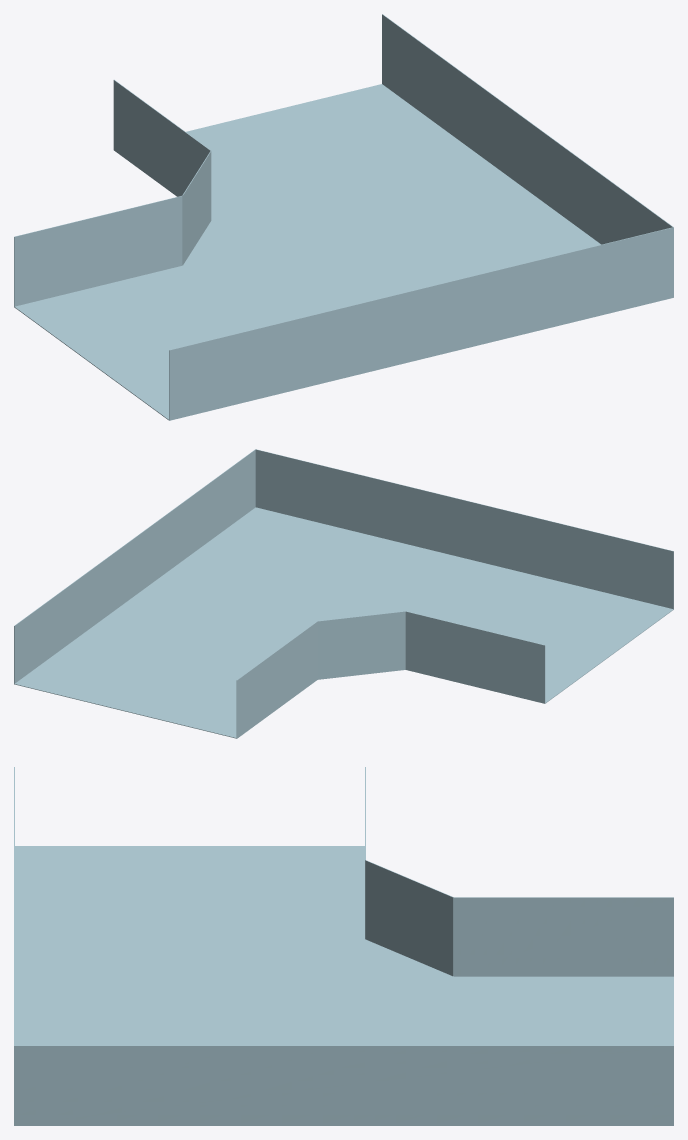
3 views of the same model, one above another, from view 1: azimuth 30°, elevation 25°; view 2: azimuth 150°, elevation 25°; view 3: azimuth 270°, elevation 25° (orthographic). The views are drawn at different scales.
Visible parts, largest first — view 1: L1-C05; view 2: L1-C05; view 3: L1-C05.
Part boxes in pixels (x1,y1,x2,y2): L1-C05: (14, 14, 673, 420); L1-C05: (14, 449, 673, 738); L1-C05: (14, 767, 673, 1125).
Size of the model in its own units: 1.5 by 0.2 by 1.5.
